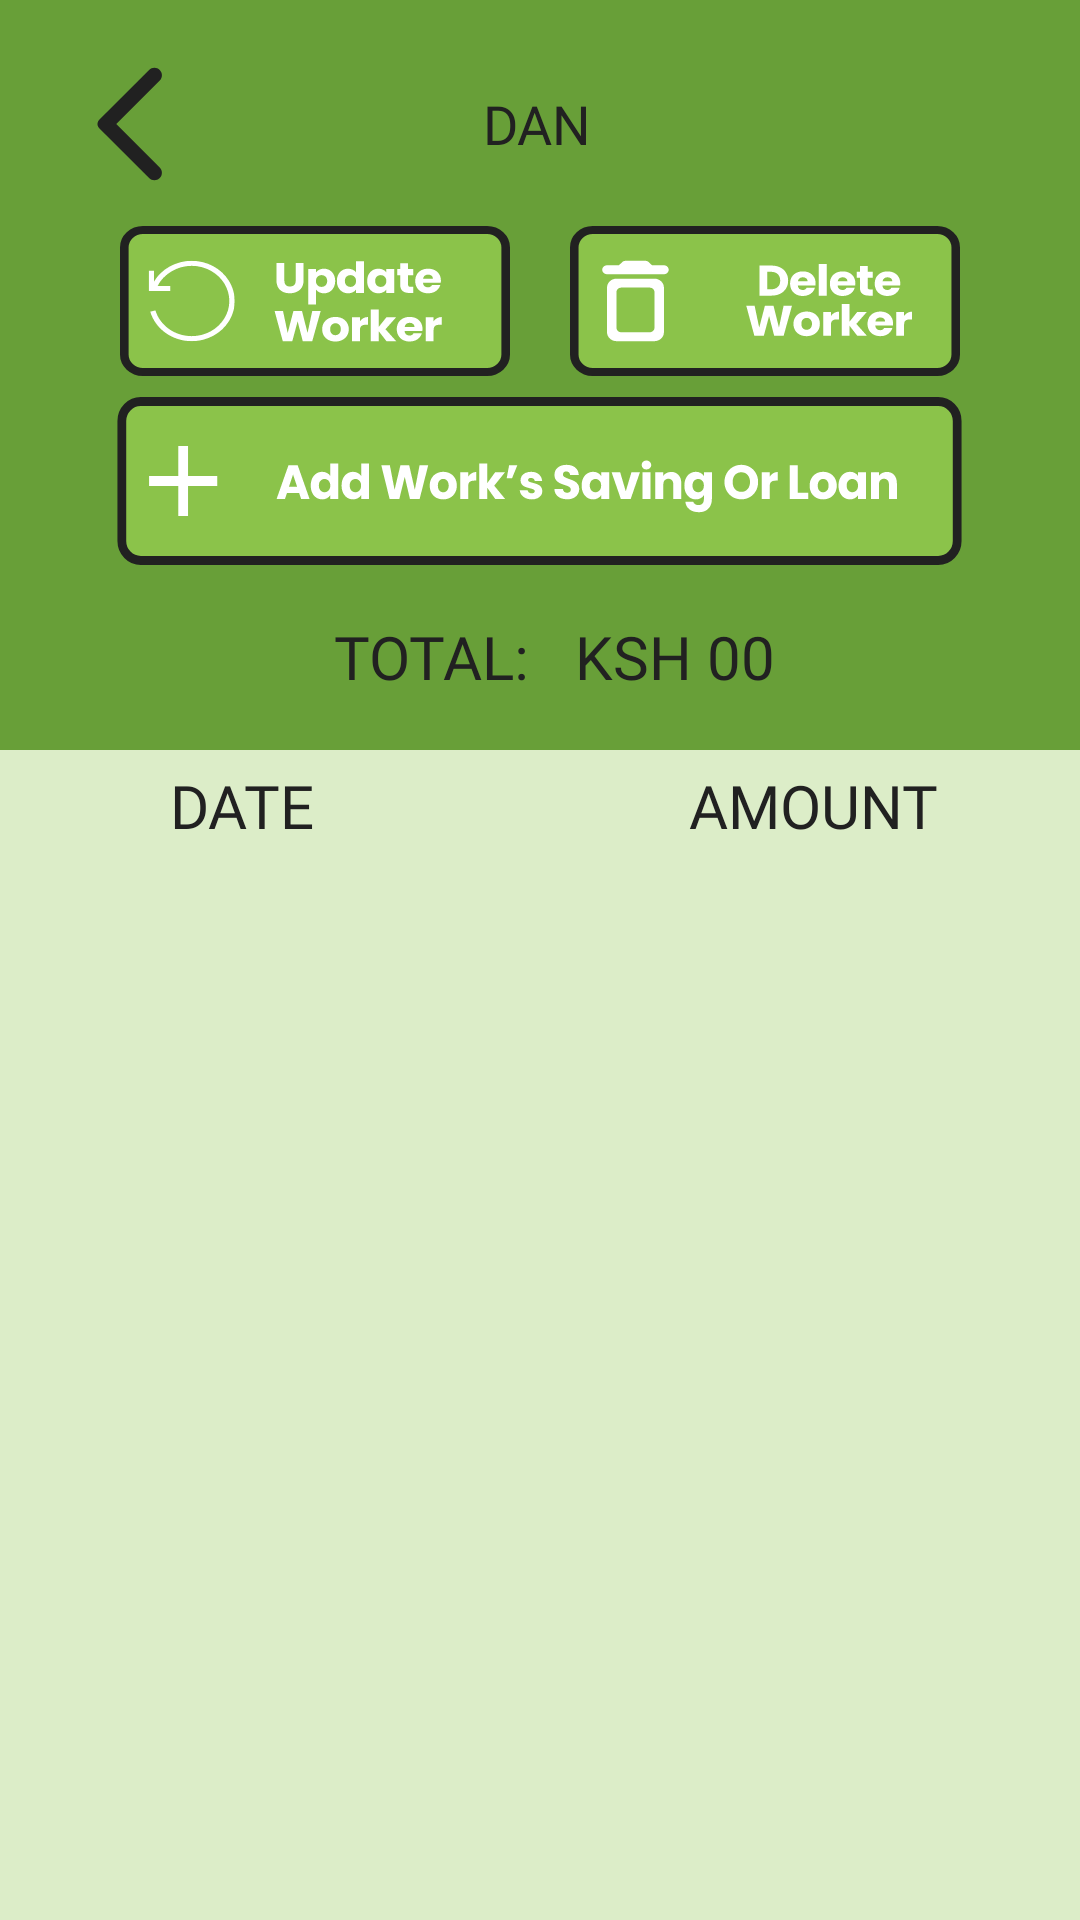

Icon click points for this 1080 × 1920 phone screenshot, format (x,y):
Back: (129,124)
